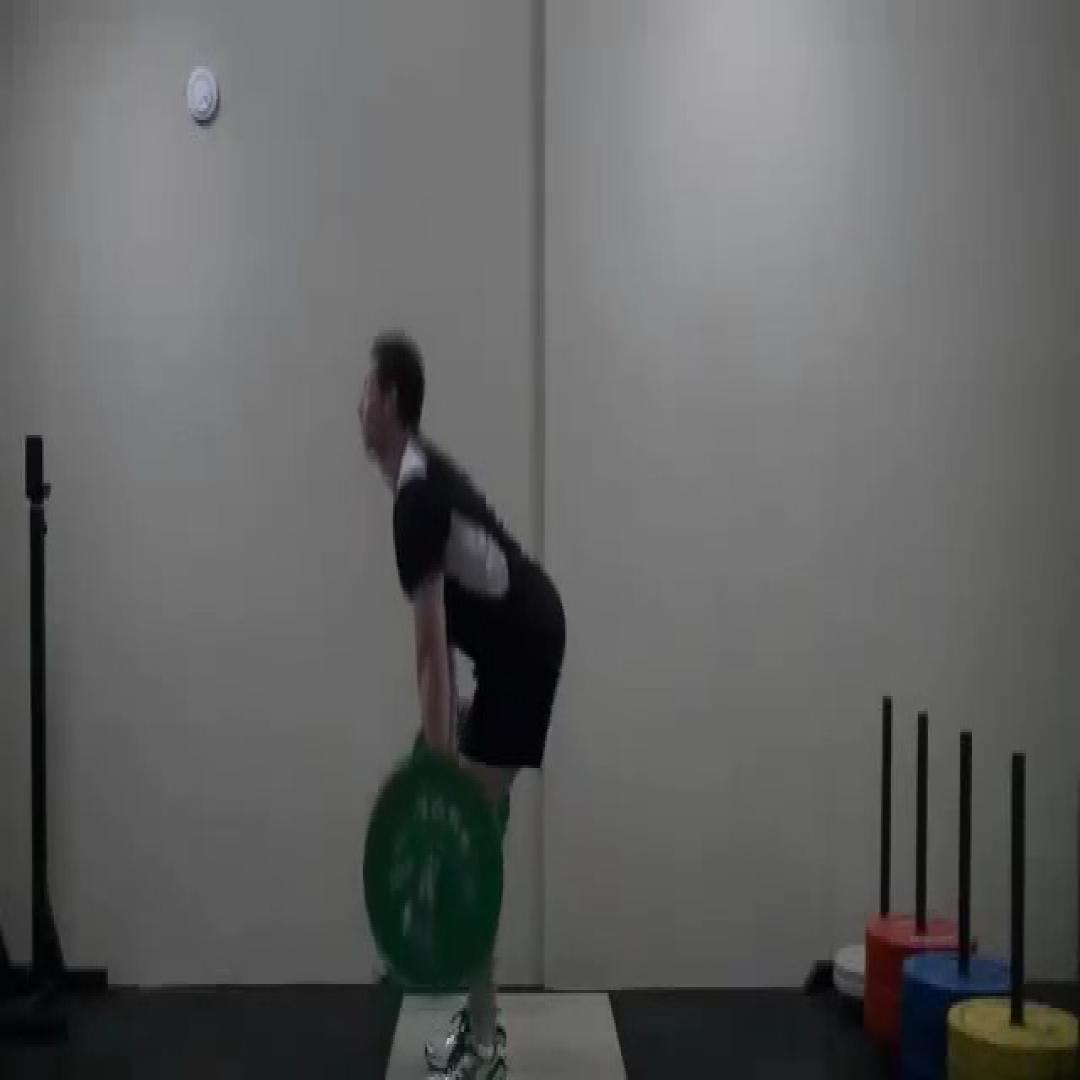Barbell: (362, 750, 505, 993)
